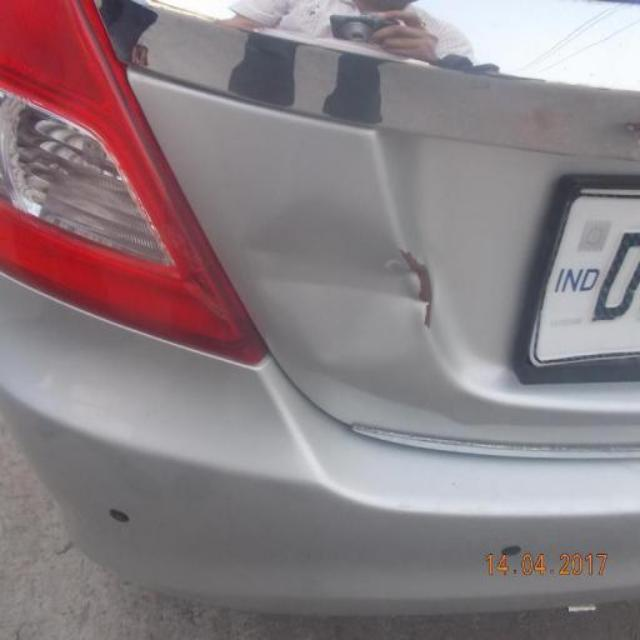dent: (246, 214, 427, 366)
